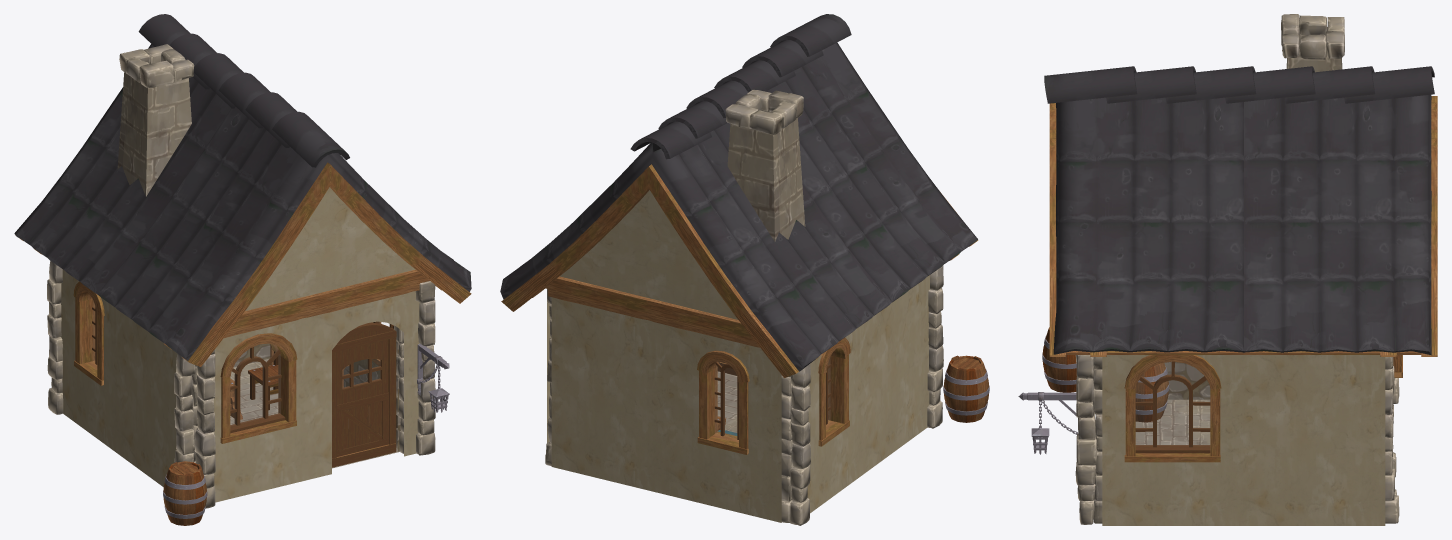
File: House_Small.glb
3 views of the same model, side by side, from view 1: azimuth 30°, elevation 25°; view 2: azimuth 150°, elevation 25°; view 3: azimuth 270°, elevation 25° (orthographic). The views are drawn at different scales.
Parts seen in each view (by area): view 1: CasaSophia_RoofTiles, Roof_Front_Brick4.010, Wall_UnevenBrick_Window_Wide_Round.036, Prop_Chimney.004, Wall_UnevenBrick_Door_Round.006, Door_1_Round.009, Wall_UnevenBrick_Straight.047, Wall_UnevenBrick_Window_Thin_Round.041, Window_Wide_Round1.025, Corner_Exterior_Brick.064, Corner_Exterior_Brick.065, Window_Thin_Round1.039 (+5 smaller); view 2: CasaSophia_RoofTiles, Wall_UnevenBrick_Straight.046, Wall_UnevenBrick_Window_Thin_Round.040, Roof_Front_Brick4.011, Wall_UnevenBrick_Straight.047, Prop_Chimney.004, Wall_UnevenBrick_Window_Thin_Round.041, Corner_Exterior_Brick.066, Window_Thin_Round1.038, Window_Thin_Round1.039, Barrel.006, Corner_Exterior_Brick.064 (+2 smaller); view 3: CasaSophia_RoofTiles, Wall_UnevenBrick_Straight.048, Wall_UnevenBrick_Window_Wide_Round.037, Window_Wide_Round1.038, Corner_Exterior_Brick.065, Prop_Chimney.004, Floor_Brick.038, Corner_Exterior_Brick.067, Barrel.007, Barrel.006, Lantern_Wall.014, Wall_UnevenBrick_Straight.047.
Part boxes in pixels (<box>): CasaSophia_RoofTiles: <box>14,14,471,366</box>; Roof_Front_Brick4.010: <box>231,187,429,329</box>; Wall_UnevenBrick_Window_Wide_Round.036: <box>213,308,316,502</box>; Prop_Chimney.004: <box>117,44,194,196</box>; Wall_UnevenBrick_Door_Round.006: <box>313,283,419,478</box>; Door_1_Round.009: <box>332,323,396,467</box>; Wall_UnevenBrick_Straight.047: <box>122,313,177,487</box>; Wall_UnevenBrick_Window_Thin_Round.041: <box>60,269,122,456</box>; Window_Wide_Round1.025: <box>220,333,297,443</box>; Corner_Exterior_Brick.064: <box>174,350,215,508</box>; Corner_Exterior_Brick.065: <box>394,281,435,455</box>; Window_Thin_Round1.039: <box>73,281,104,385</box>; CasaSophia_RoofTiles: <box>500,14,978,377</box>; Wall_UnevenBrick_Straight.046: <box>548,289,666,494</box>; Wall_UnevenBrick_Window_Thin_Round.040: <box>663,317,781,522</box>; Roof_Front_Brick4.011: <box>545,190,752,338</box>; Wall_UnevenBrick_Straight.047: <box>866,275,929,471</box>; Prop_Chimney.004: <box>725,89,805,241</box>; Wall_UnevenBrick_Window_Thin_Round.041: <box>807,322,866,513</box>; Corner_Exterior_Brick.066: <box>781,364,810,525</box>; Window_Thin_Round1.038: <box>697,350,749,454</box>; Window_Thin_Round1.039: <box>818,337,850,446</box>; Barrel.006: <box>943,355,989,422</box>; Corner_Exterior_Brick.064: <box>927,265,943,428</box>; CasaSophia_RoofTiles: <box>1044,66,1437,356</box>; Wall_UnevenBrick_Straight.048: <box>1243,355,1385,525</box>; Wall_UnevenBrick_Window_Wide_Round.037: <box>1102,355,1243,525</box>; Window_Wide_Round1.038: <box>1124,355,1221,462</box>; Corner_Exterior_Brick.065: <box>1075,355,1102,524</box>; Prop_Chimney.004: <box>1281,14,1344,72</box>; Floor_Brick.038: <box>1135,399,1210,444</box>; Corner_Exterior_Brick.067: <box>1385,357,1399,523</box>; Barrel.007: <box>1135,363,1169,422</box>; Barrel.006: <box>1042,327,1076,392</box>; Lantern_Wall.014: <box>1018,392,1078,454</box>; Wall_UnevenBrick_Straight.047: <box>1164,361,1210,399</box>.
Size of the model in its own units: 5.61 by 6.31 by 5.93.
36 materials, 33 textured.
